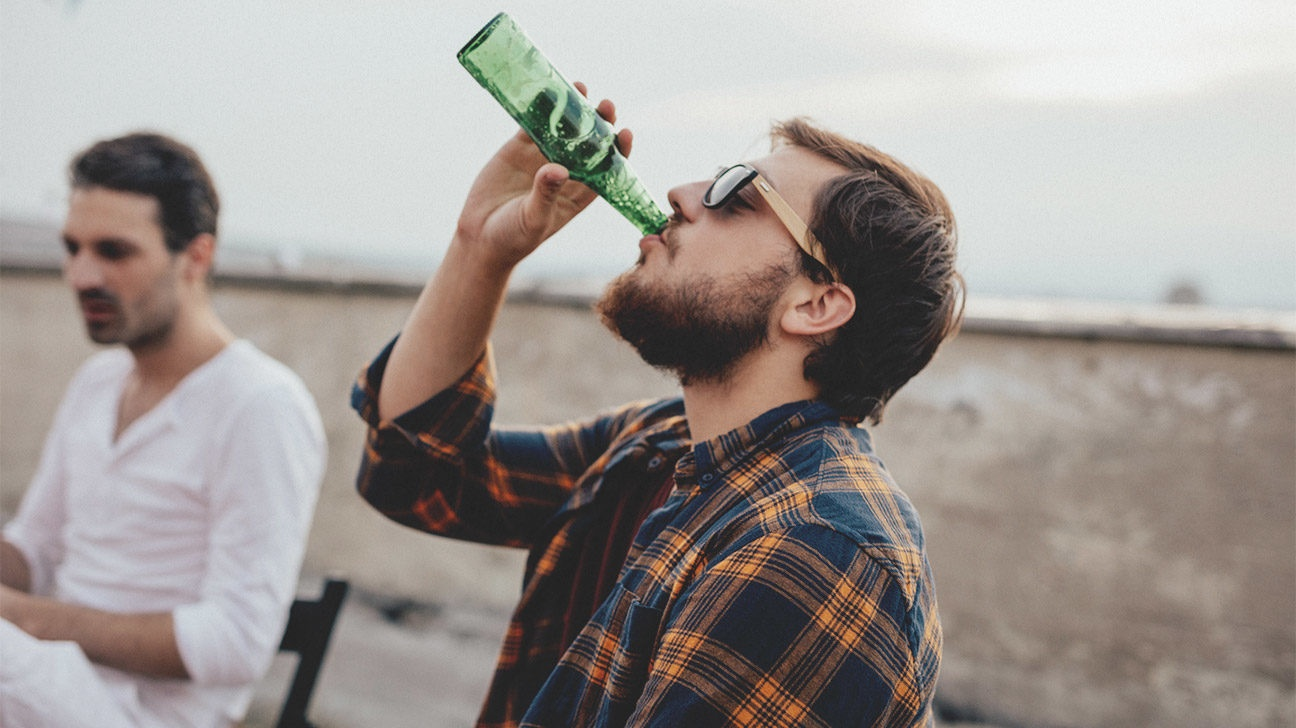beerBottle: (443, 15, 674, 239)
